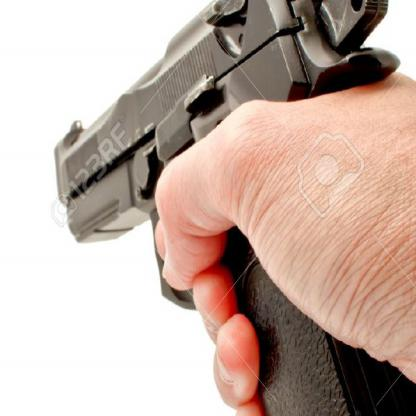gun: (28, 0, 416, 415)
